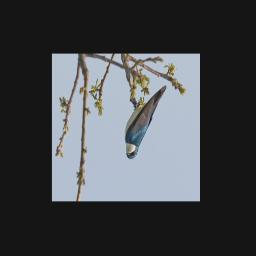Swallow: (122, 84, 169, 162)
